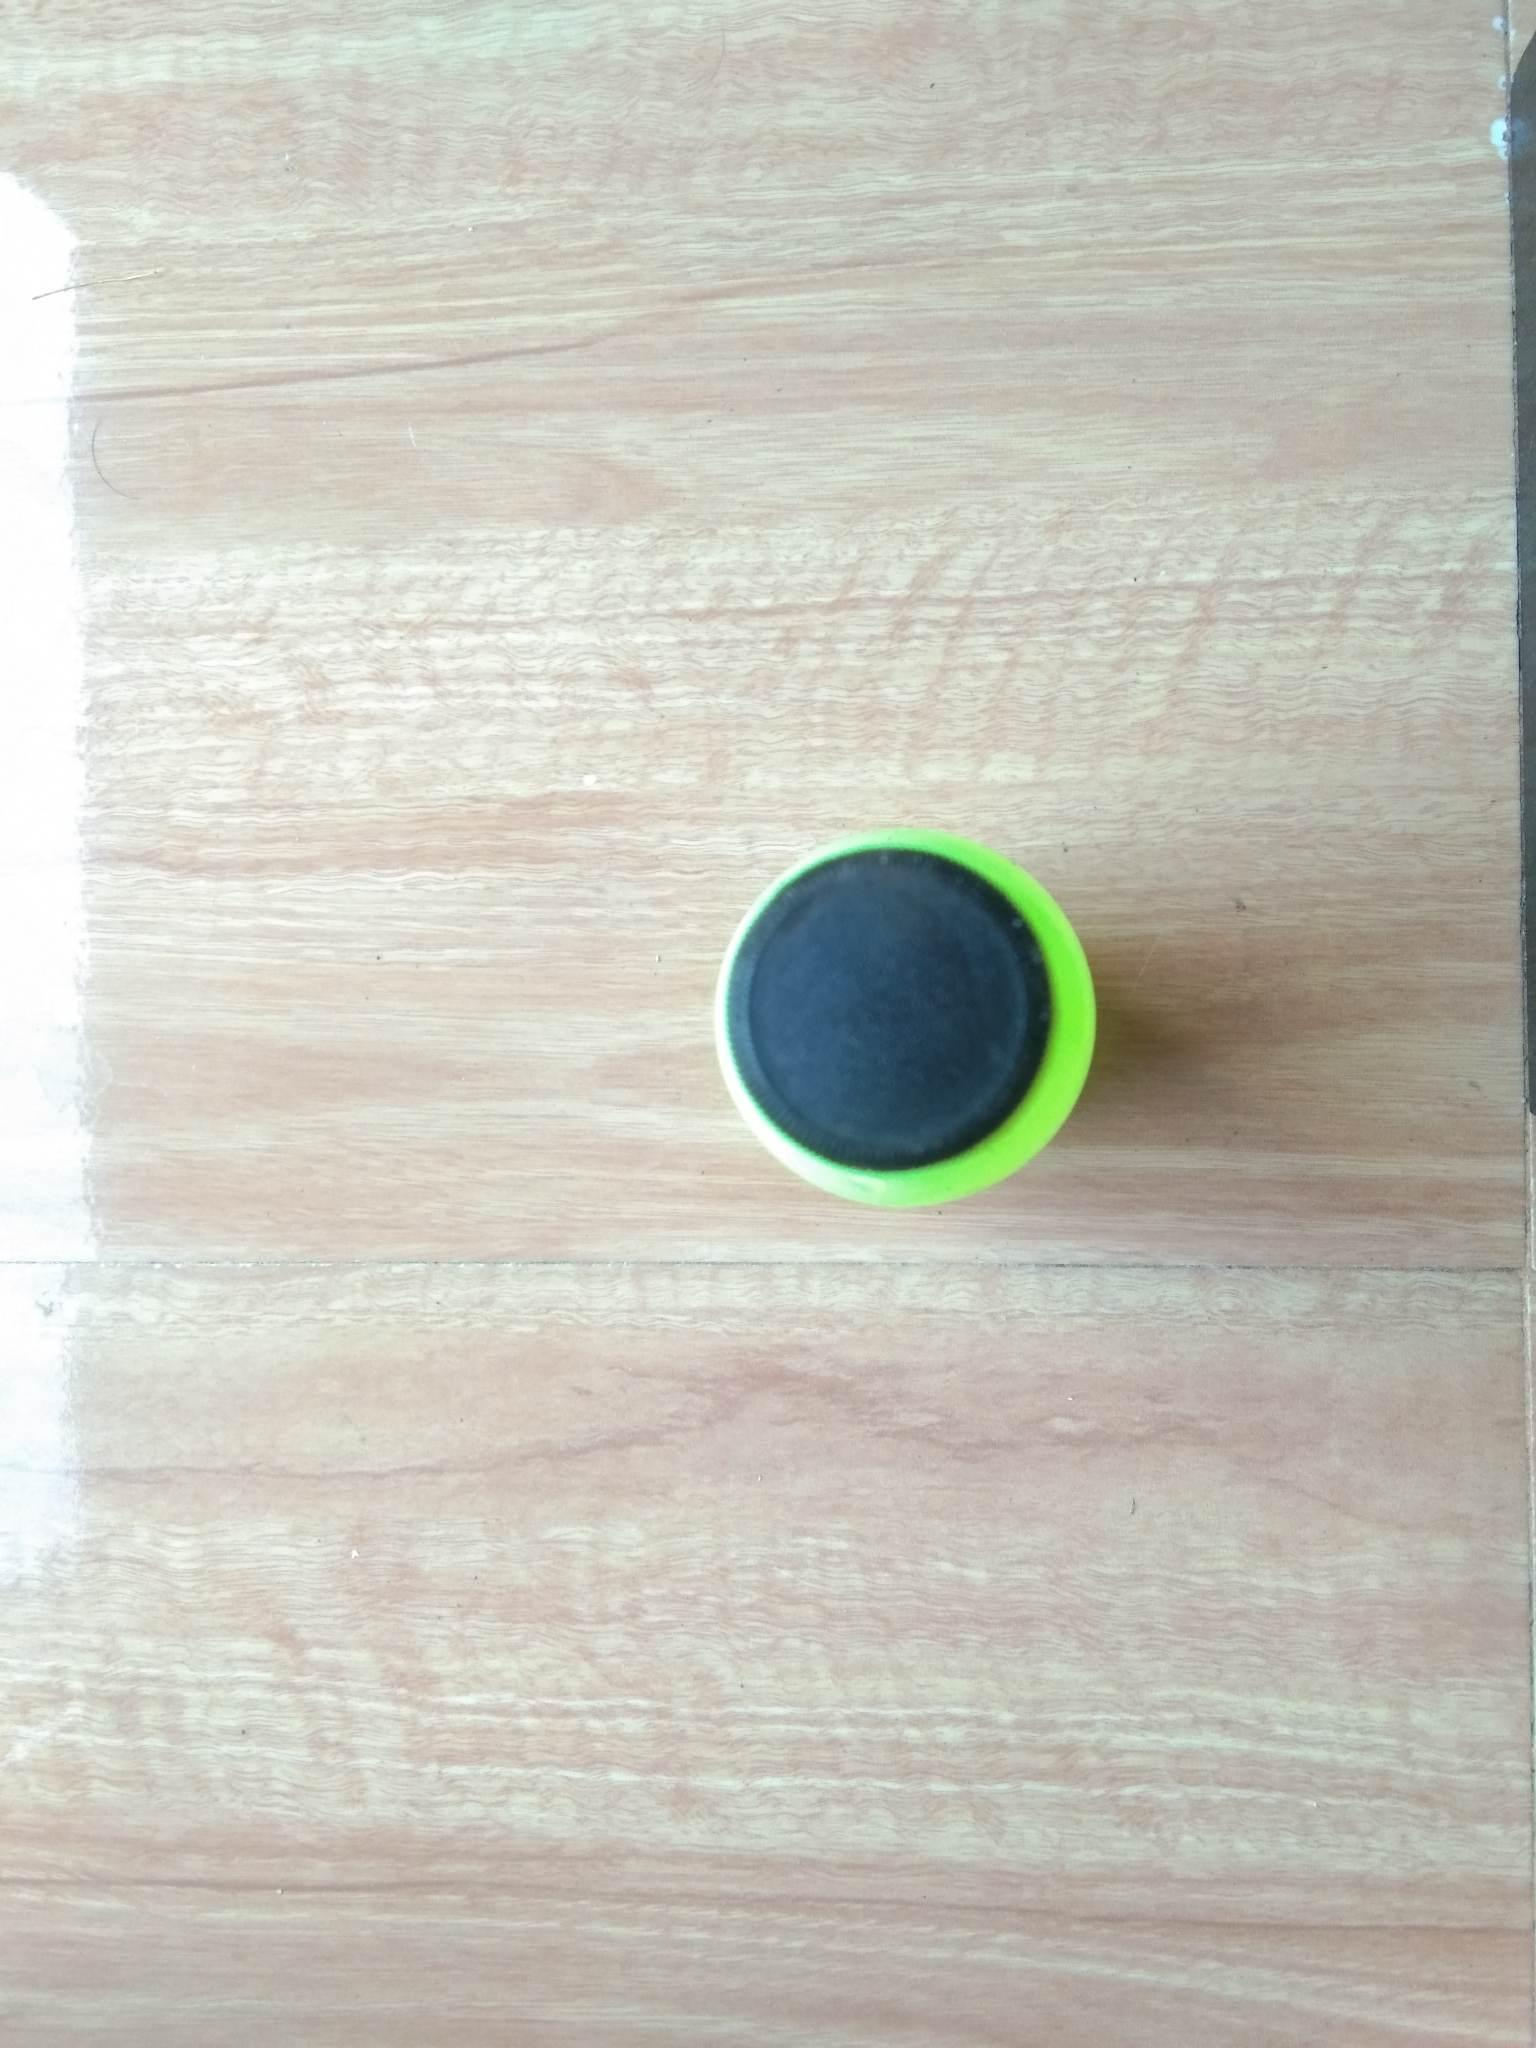plastic: (563, 756, 1286, 1253)
